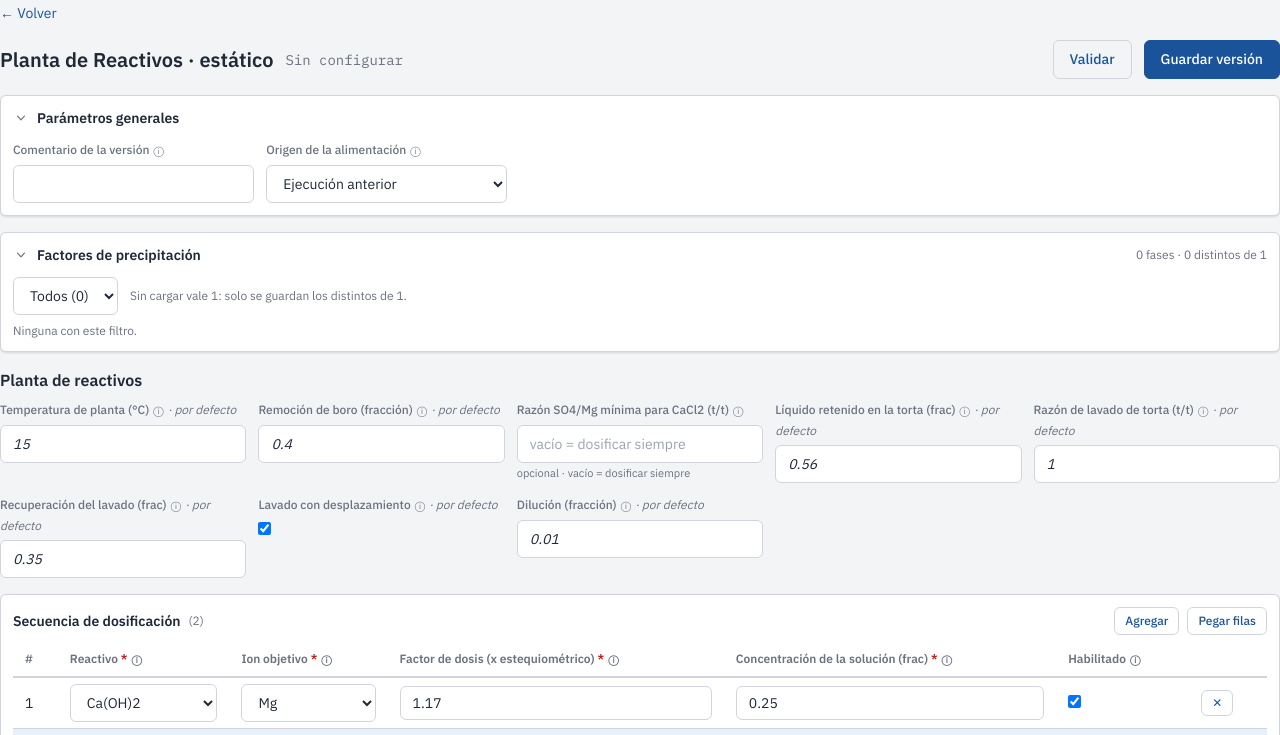
valores por defecto (punto 21) › un error del backend sigue en rojo
Click the button "Validar" at [1092, 60], box top-left (1052, 40), bottom-right (1132, 79)
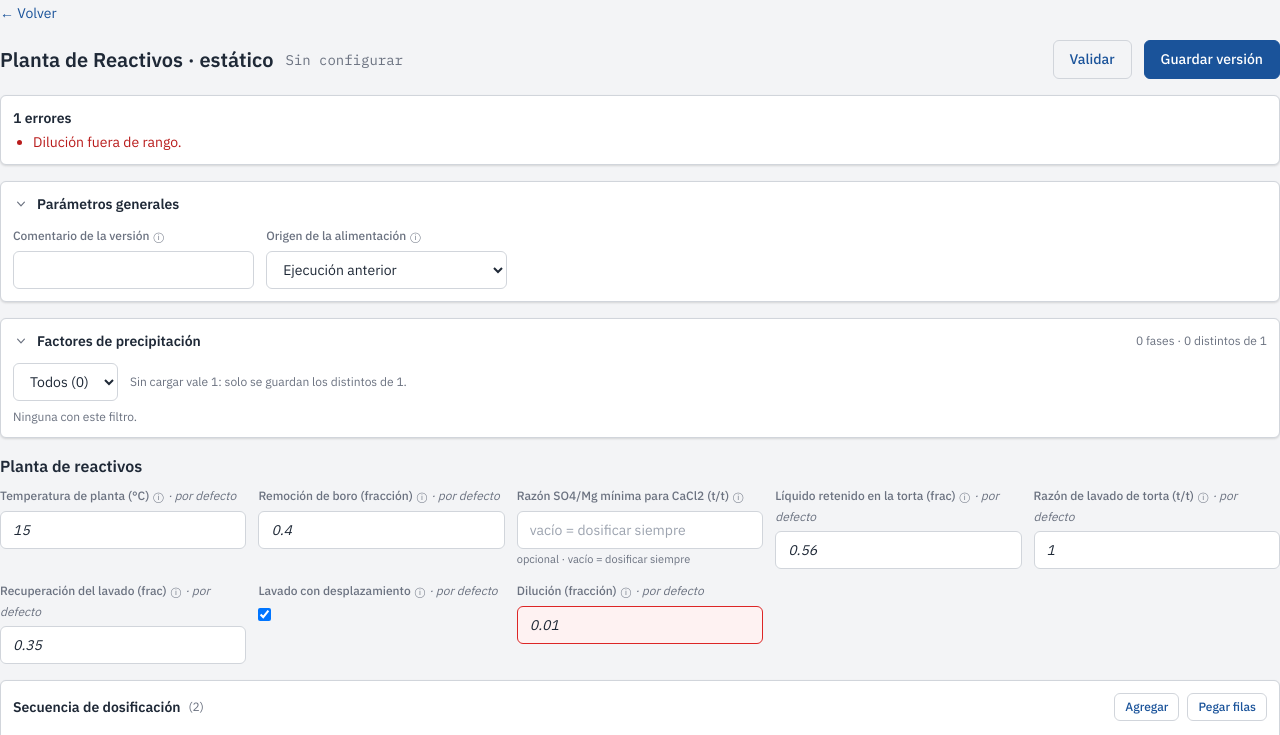
Check: the element with test id "section-report" is shown, box top-left (0, 95), bottom-right (1279, 165)
